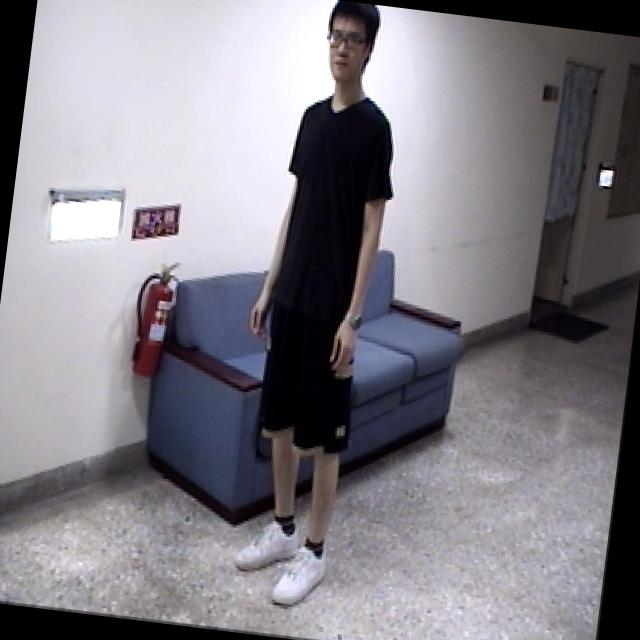stand: (203, 0, 432, 633)
